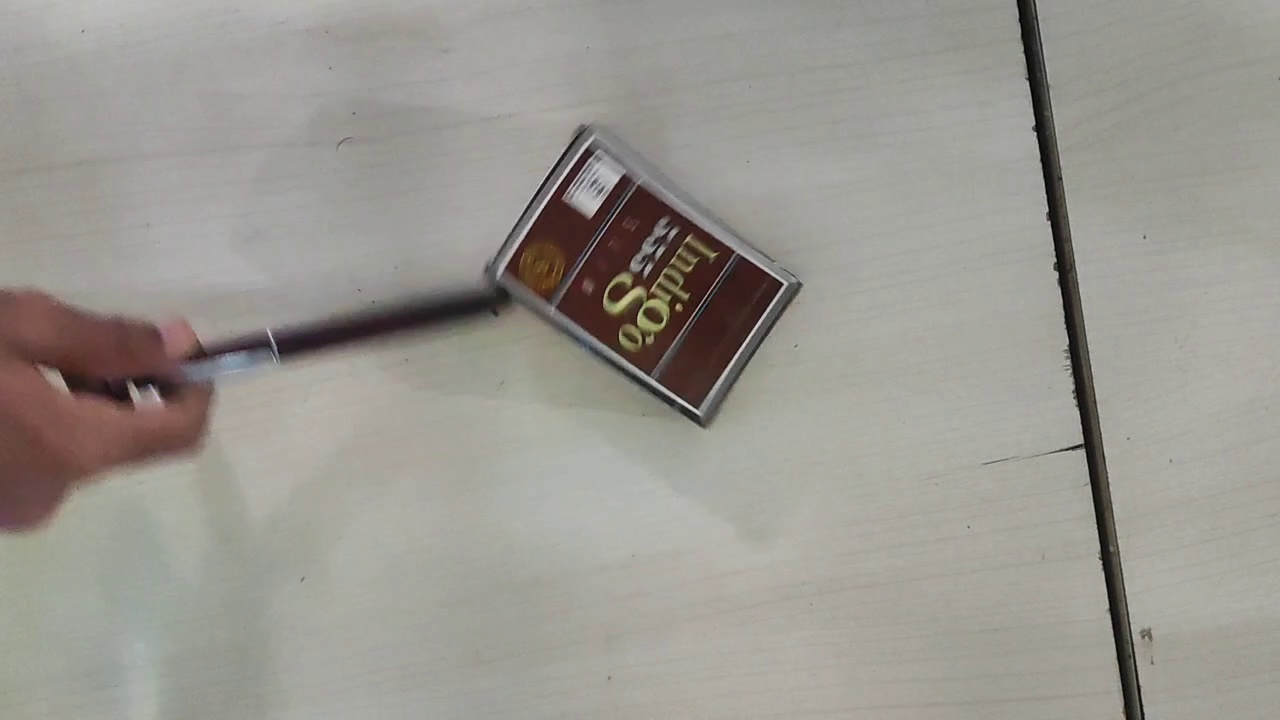BEX: (492, 136, 783, 417)
